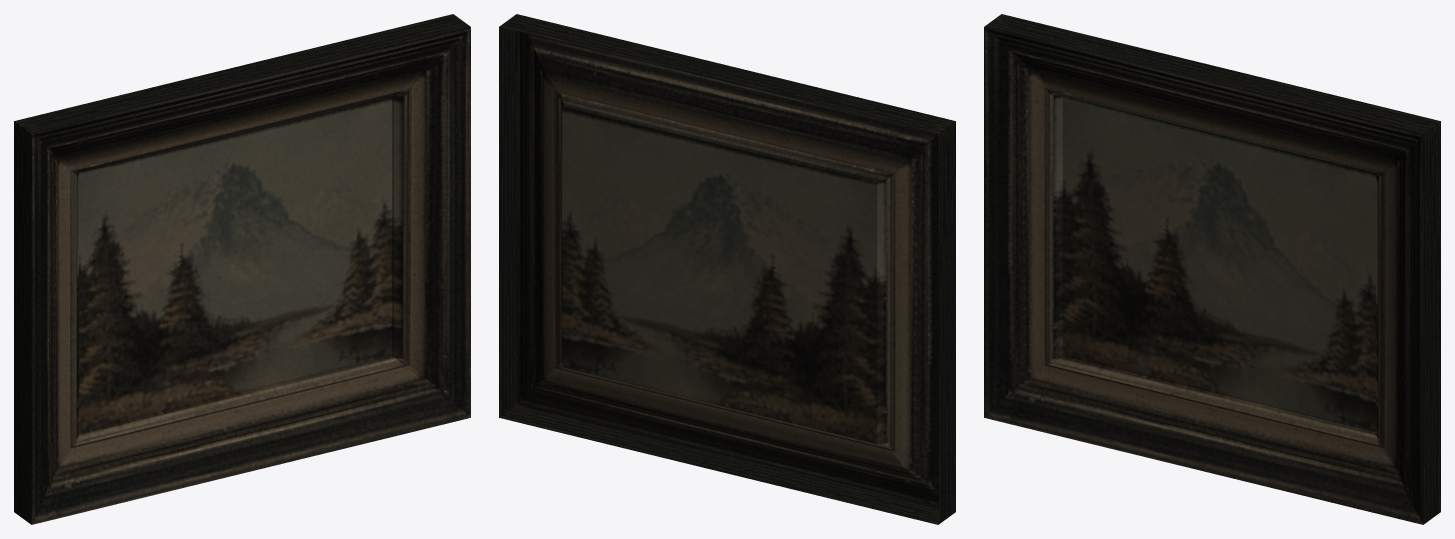
The model's file is painting_5.obj.
3 views of the same model, side by side, from view 1: azimuth 30°, elevation 25°; view 2: azimuth 150°, elevation 25°; view 3: azimuth 330°, elevation 25° (orthographic).
Visible parts, largest first — view 1: painting_5; view 2: painting_5; view 3: painting_5.
Boxes of the visible parts, bbox=[...] form: painting_5: bbox=[14, 14, 470, 524]; painting_5: bbox=[499, 14, 955, 524]; painting_5: bbox=[984, 14, 1440, 524].
Bounding box in the file's own units: 1.16 × 0.9828 × 0.08.
